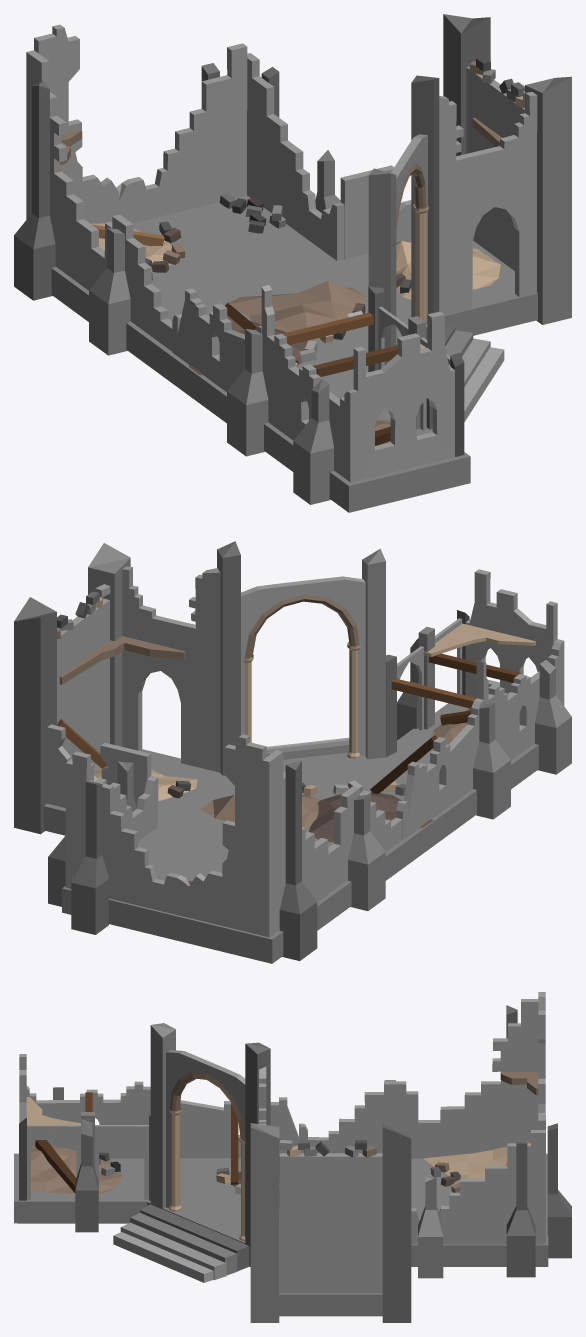
File: ruin1.fbx
3 views of the same model, one above another, from view 1: azimuth 30°, elevation 25°; view 2: azimuth 150°, elevation 25°; view 3: azimuth 270°, elevation 25° (orthographic). The views are drawn at different scales.
Visible parts, largest first — view 1: collision-2.001, collision-1.001; view 2: collision-2.001, collision-1.001; view 3: collision-2.001, collision-1.001.
Part boxes in pixels (x1,y1,x2,y2): collision-2.001: [14, 14, 571, 504]; collision-1.001: [51, 193, 537, 512]; collision-2.001: [14, 541, 571, 960]; collision-1.001: [43, 703, 538, 963]; collision-2.001: [19, 992, 571, 1322]; collision-1.001: [14, 1103, 548, 1316].
Size of the model in its own units: 15185 by 10283 by 23296.
